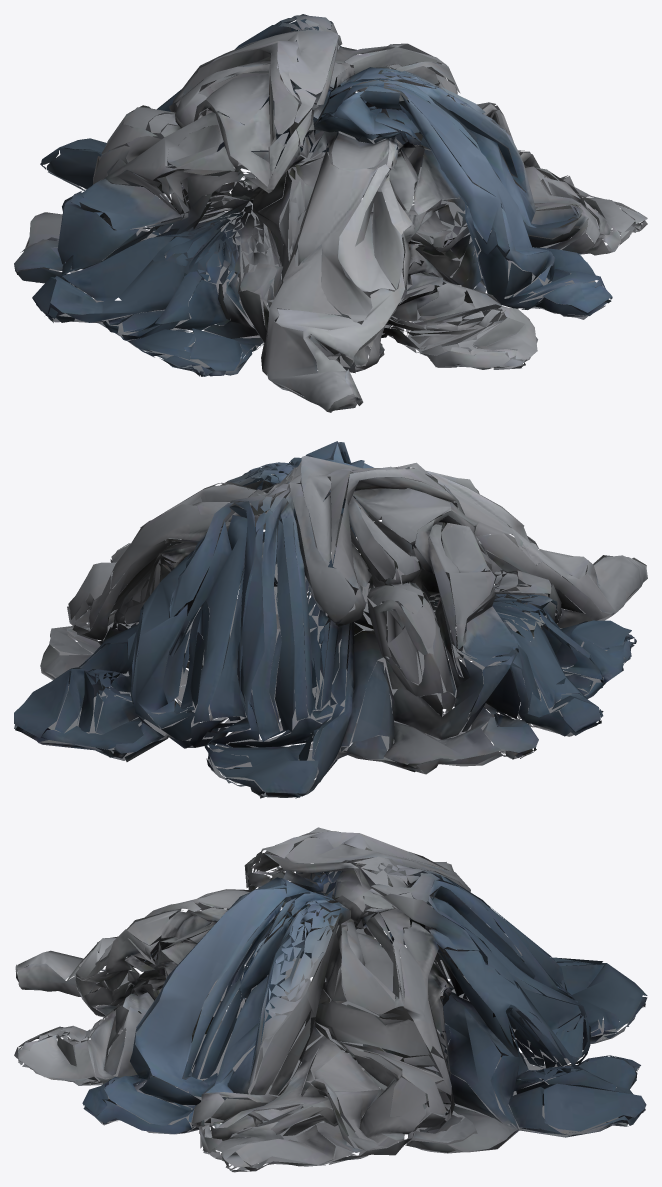
File: laundry_lod0.glb
3 renders of one model, top to bottom at view 1: azimuth 30°, elevation 25°; view 2: azimuth 150°, elevation 25°; view 3: azimuth 270°, elevation 25°, orthographic. The views are drawn at different scales.
Visible parts, largest first — view 1: node_0; view 2: node_0; view 3: node_0.
Part boxes in pixels (bbox=[...]): node_0: bbox=[14, 14, 647, 412]; node_0: bbox=[14, 441, 647, 798]; node_0: bbox=[14, 827, 647, 1172].
Size of the model in its own units: 2.72 by 1.02 by 2.85.
Materials: 1 (1 with a texture image).
